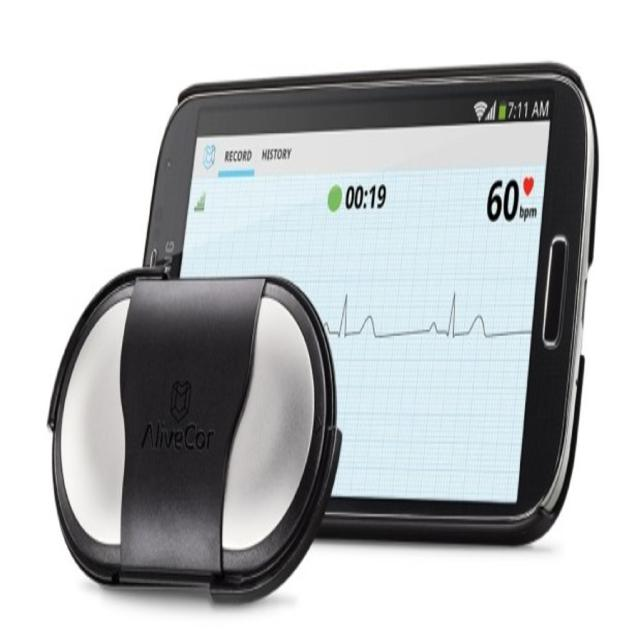Mobile-phone: (131, 73, 613, 483)
